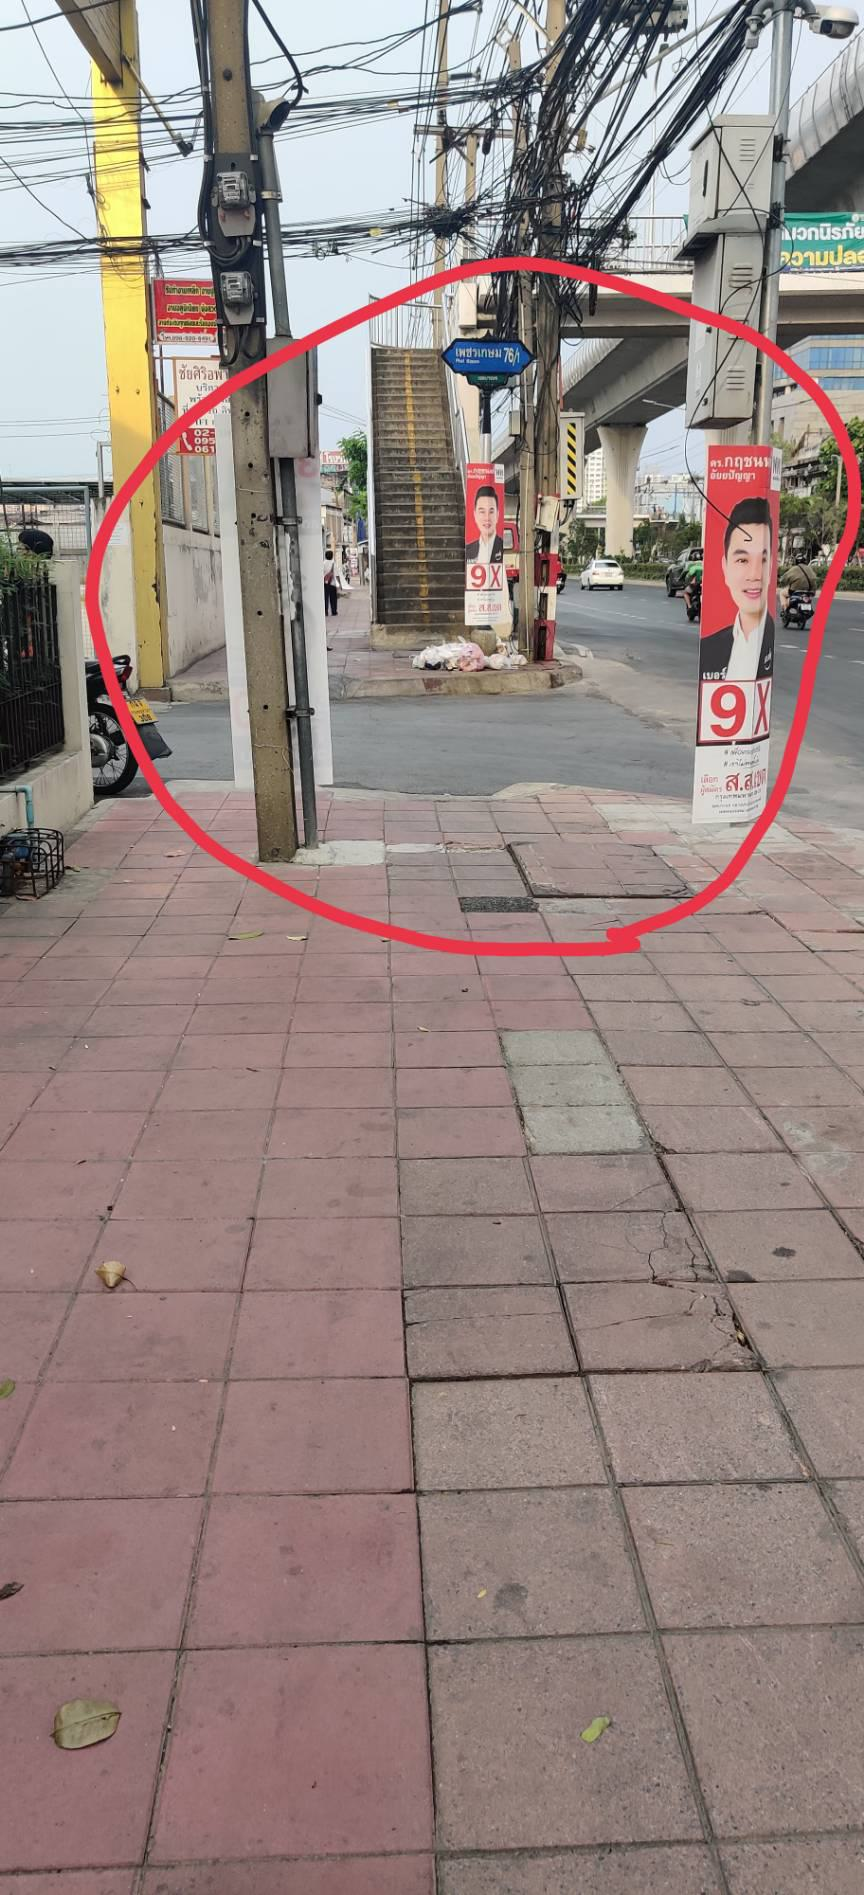Banner: (696, 437, 811, 840), (469, 477, 523, 668)
